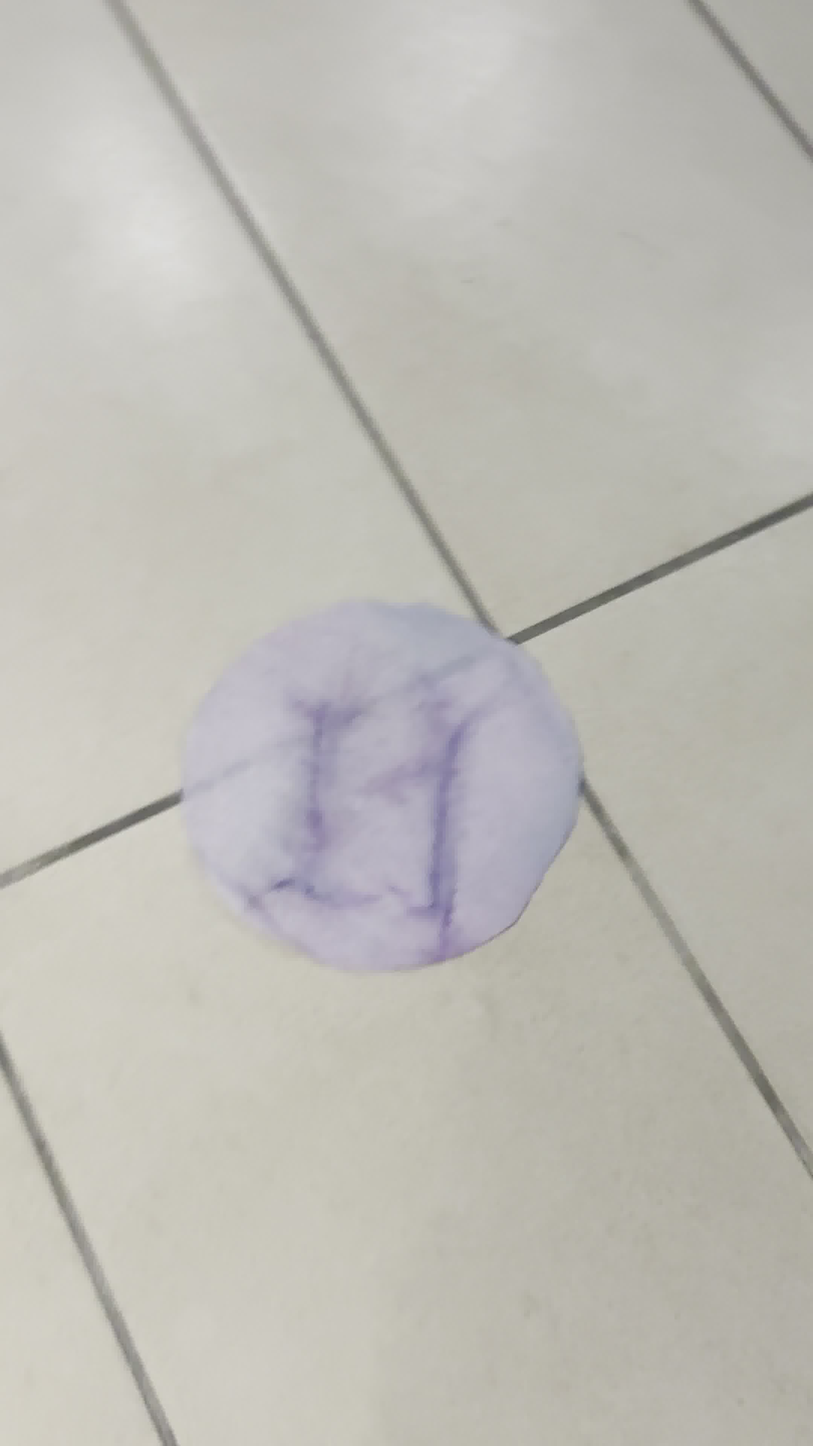Target: (172, 597, 583, 976)
